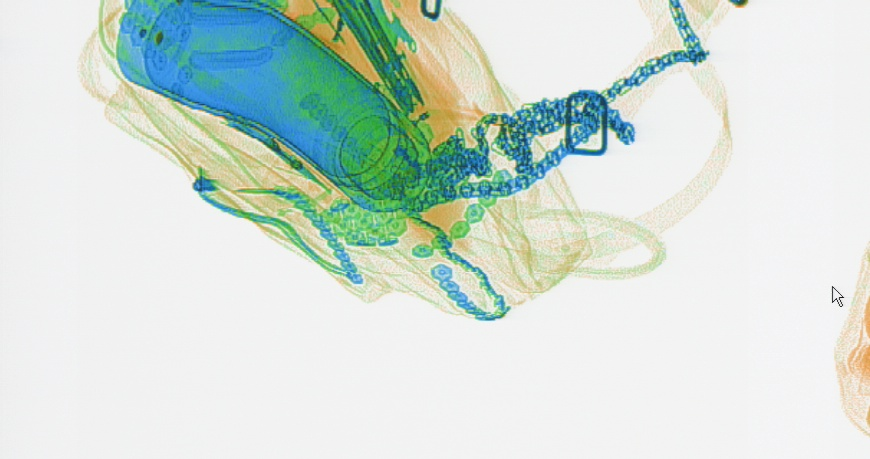knife: (312, 1, 431, 118)
